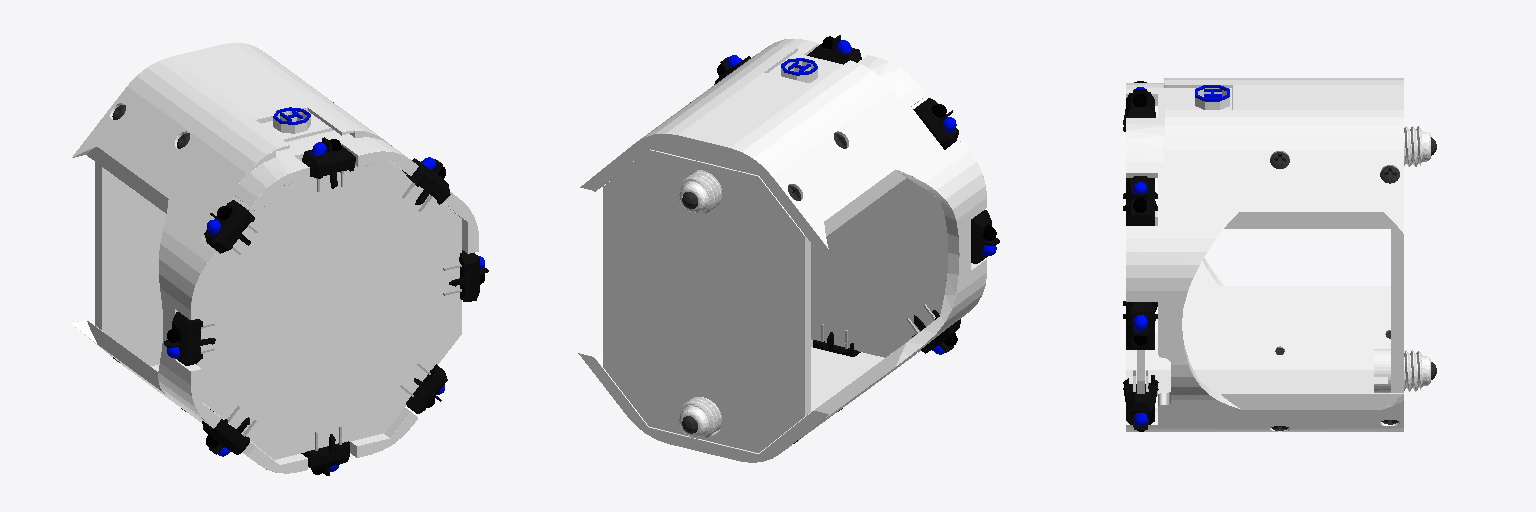
3 renders of one model, left to right at view 1: azimuth 30°, elevation 25°; view 2: azimuth 150°, elevation 25°; view 3: azimuth 270°, elevation 25°, orthographic.
Parts seen in each view (by area): view 1: Body2_16_Body2:16, cover, Body6, Body1_17_Body1:17, Body1_20_Body1:20, Body1_14_Body1:14, Body1_11_Body1:11, cover_usb, Body1_8_Body1:8, Body1_23_Body1:23, Body1_5_Body1:5, Body1_2_Body1:2; view 2: Body6, cover, Body2_16_Body2:16, Body31_1_Body31:1, Body31, Body1_17_Body1:17, Body1_20_Body1:20, Body1_14_Body1:14, cover_usb, Body1_23_Body1:23; view 3: cover, Body6, Body1_8_Body1:8, Body1_11_Body1:11, Body1_5_Body1:5, Body31, Body31_1_Body31:1, Body30, Body1_14_Body1:14, cover_usb.
Boxes of the visible parts, <box> form: Body2_16_Body2:16: <box>196,160,461,459</box>; cover: <box>70,43,478,473</box>; Body6: <box>95,162,249,366</box>; Body1_17_Body1:17: <box>204,200,254,253</box>; Body1_20_Body1:20: <box>164,312,215,365</box>; Body1_14_Body1:14: <box>302,137,355,188</box>; Body1_11_Body1:11: <box>402,158,450,204</box>; cover_usb: <box>262,111,333,141</box>; Body1_8_Body1:8: <box>449,250,488,301</box>; Body1_23_Body1:23: <box>202,409,249,454</box>; Body1_5_Body1:5: <box>406,364,447,413</box>; Body1_2_Body1:2: <box>301,434,349,475</box>; Body6: <box>603,149,810,452</box>; cover: <box>578,39,986,462</box>; Body2_16_Body2:16: <box>811,106,947,357</box>; Body31_1_Body31:1: <box>677,170,721,214</box>; Body31: <box>677,397,721,438</box>; Body1_17_Body1:17: <box>913,98,958,149</box>; Body1_20_Body1:20: <box>971,210,999,263</box>; Body1_14_Body1:14: <box>807,35,861,64</box>; cover_usb: <box>768,61,831,84</box>; Body1_23_Body1:23: <box>912,310,960,353</box>; cover: <box>1126,78,1403,431</box>; Body6: <box>1391,229,1403,392</box>; Body1_8_Body1:8: <box>1123,302,1157,349</box>; Body1_11_Body1:11: <box>1123,176,1157,225</box>; Body1_5_Body1:5: <box>1123,383,1158,429</box>; Body31: <box>1404,350,1430,391</box>; Body31_1_Body31:1: <box>1404,126,1430,166</box>; Body30: <box>1374,349,1390,392</box>; Body1_14_Body1:14: <box>1123,89,1155,131</box>; cover_usb: <box>1189,88,1231,109</box>.
Size of the model in its own units: 0.0739 by 0.0737 by 0.0629.